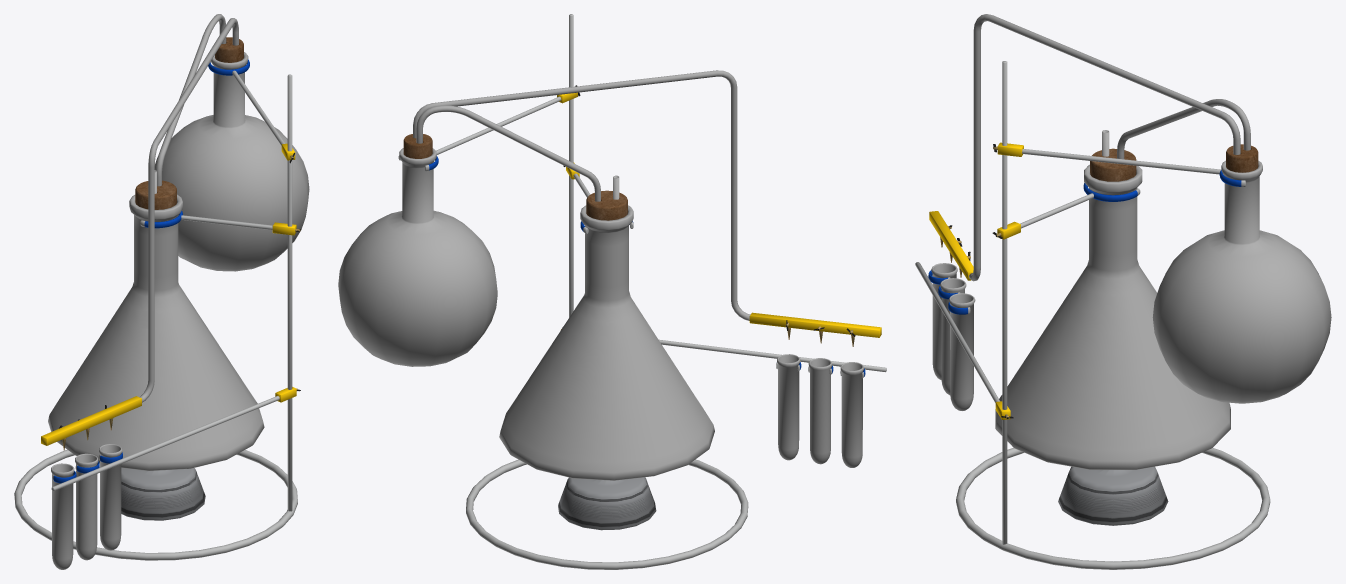
Rendered from ExperimentB.fbx.
3 renders of one model, left to right at view 1: azimuth 30°, elevation 25°; view 2: azimuth 150°, elevation 25°; view 3: azimuth 270°, elevation 25°, orthographic. The views are drawn at different scales.
Parts seen in each view (by area): view 1: Chemistry_Liquid, Chemistry_Liquid2; view 2: Chemistry_Liquid, Chemistry_Liquid2; view 3: Chemistry_Liquid, Chemistry_Liquid2.
Part boxes in pixels (x1,y1,x2,y2): Chemistry_Liquid: (48,52,309,569); Chemistry_Liquid2: (14,14,301,560); Chemistry_Liquid: (338,148,863,480); Chemistry_Liquid2: (398,14,886,569); Chemistry_Liquid: (931,160,1331,469); Chemistry_Liquid2: (915,14,1270,569).
Bounding box in the file's own units: 49.64 × 52.97 × 40.86.
